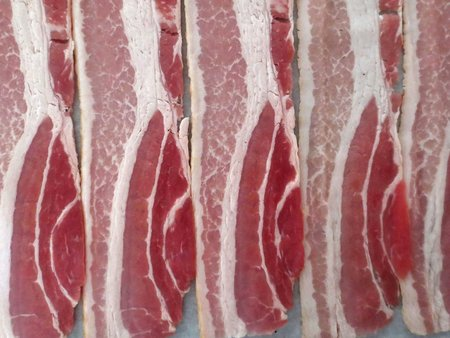bacon: (71, 3, 195, 332), (293, 5, 413, 335), (183, 10, 298, 329)
